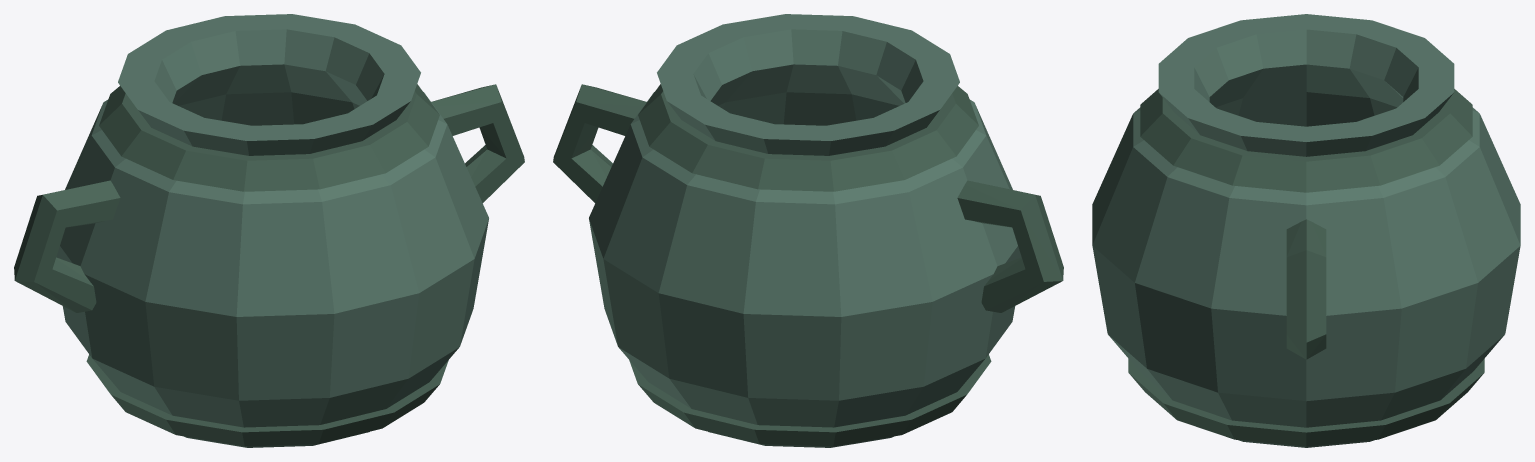
Rendered from DG_Jar_SquatMoss.fbx.
3 renders of one model, left to right at view 1: azimuth 30°, elevation 25°; view 2: azimuth 150°, elevation 25°; view 3: azimuth 270°, elevation 25°, orthographic.
Parts seen in each view (by area): view 1: DG_Jar_SquatMoss; view 2: DG_Jar_SquatMoss; view 3: DG_Jar_SquatMoss.
Part boxes in pixels (x1,y1,x2,y2): DG_Jar_SquatMoss: [14, 14, 524, 447]; DG_Jar_SquatMoss: [553, 14, 1063, 447]; DG_Jar_SquatMoss: [1092, 14, 1520, 447].
Bounding box in the file's own units: 1.12 × 0.65 × 0.8189.
